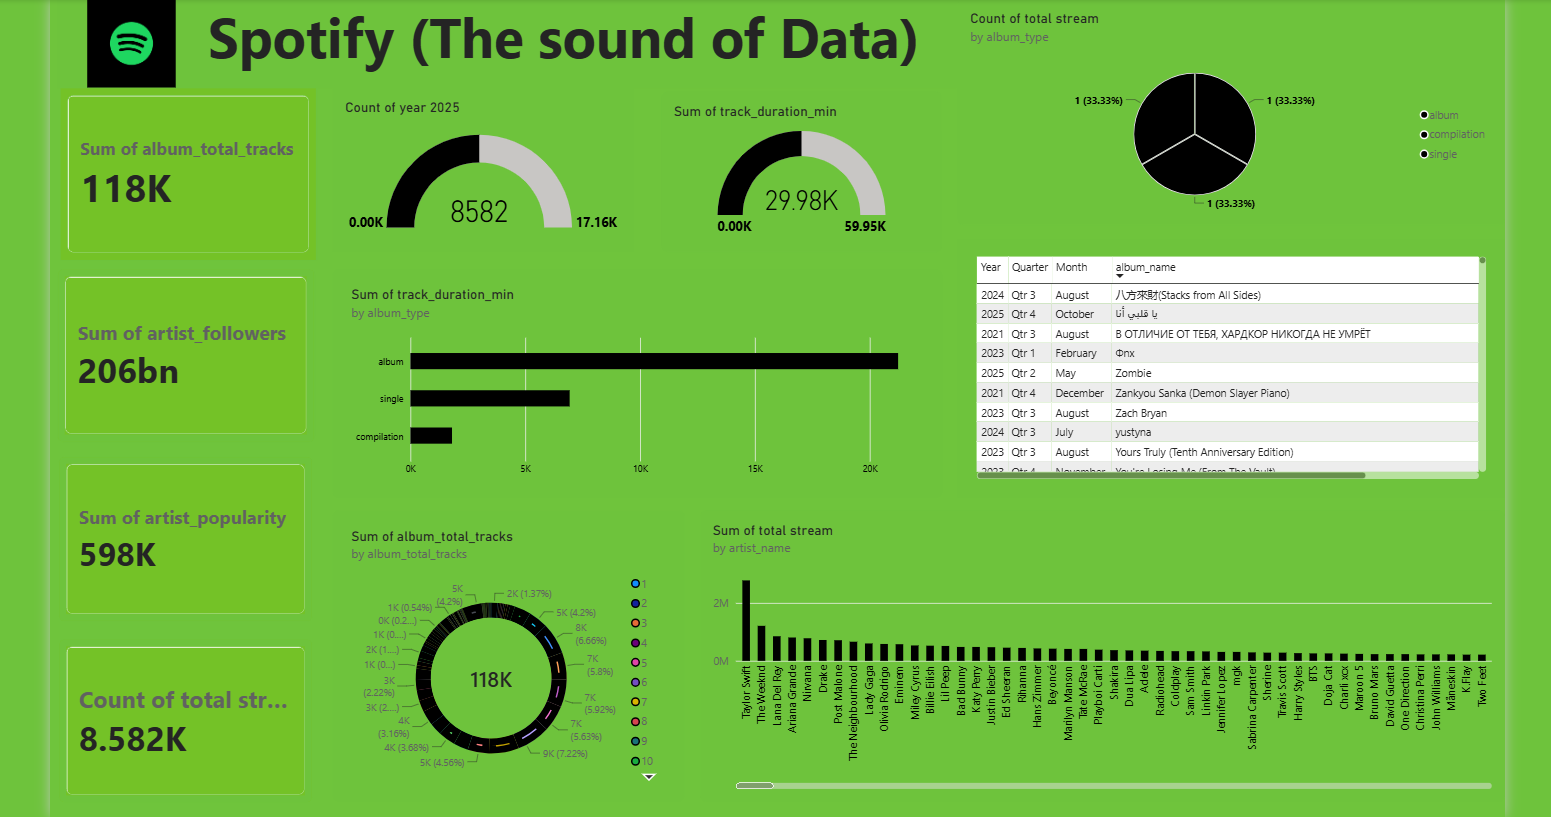

Layout of this report page (visuals, bound fields, positions):
{"tool":"powerbi","page":{"name":"Page 1","canvas":[1920,1080],"ordinal":0},"visuals":[{"type":"textbox","box":[10.3,0,1591.1,117.3],"z":0},{"type":"cardVisual","fields":{"Data":["Sum(spotify_data clean (1).album_total_tracks)"]},"box":[13.7,116.5,339.6,228.5],"z":1000},{"type":"cardVisual","fields":{"Data":["Sum(spotify_data clean (1).artist_followers)"]},"box":[9.1,356.2,339.6,228.5],"z":2000},{"type":"cardVisual","fields":{"Data":["Sum(spotify_data clean (1).artist_popularity)"]},"box":[12.3,603.1,335.5,218.2],"z":3000},{"type":"gauge","fields":{"Y":["Sum(spotify_data clean (1).track_duration_min)"]},"box":[806.9,121.4,370.5,212],"z":4000},{"type":"barChart","fields":{"Category":["spotify_data clean (1).album_type"],"Y":["Sum(spotify_data clean (1).track_duration_min)"]},"box":[372.6,356.1,804.8,302.6],"z":6000},{"type":"donutChart","fields":{"Series":["spotify_data clean (1).album_total_tracks"],"Y":["Sum(spotify_data clean (1).album_total_tracks)"]},"box":[372.6,675.1,465.2,384.9],"z":8000},{"type":"tableEx","fields":{"Values":["spotify_data clean (1).album_release_date.Variation.Date Hierarchy.Year","spotify_data clean (1).album_release_date.Variation.Date Hierarchy.Quarter","spotify_data clean (1).album_release_date.Variation.Date Hierarchy.Month","spotify_data clean (1).album_name","spotify_data clean (1).album_type"]},"box":[1197.9,317,722.5,341.7],"z":8001},{"type":"cardVisual","fields":{"Data":["CountNonNull(spotify_data clean (1).total stream)"]},"box":[12.3,843.9,335.5,216.1],"z":8002},{"type":"gauge","fields":{"Y":["CountNonNull(spotify_data clean (1).year 2025)"]},"box":[372.6,117.3,397.3,216.1],"z":8004},{"type":"pieChart","fields":{"Category":["spotify_data clean (1).album_type"],"Y":["Count(spotify_data clean (1).total stream)"]},"box":[1197.9,0,722.5,298.5],"z":8005},{"type":"columnChart","fields":{"Category":["spotify_data clean (1).artist_name"],"Y":["Sum(spotify_data clean (1).total stream)"]},"box":[858.3,675.1,1062.1,384.9],"z":8006},{"type":"image","box":[10.5,0,195.3,116.9],"z":8007}]}

Visuals, with their boxes on the page's 1920x1080 design canvas (x1, y1, x2, y2). These are canvas units, not pixel positions in the 1551x817 screenshot, which may show the page scaled, cropped or inside an application window:
textbox: left=10, top=0, right=1601, bottom=117
cardVisual - Sum(spotify_data clean (1).album_total_tracks): left=14, top=116, right=353, bottom=345
cardVisual - Sum(spotify_data clean (1).artist_followers): left=9, top=356, right=349, bottom=585
cardVisual - Sum(spotify_data clean (1).artist_popularity): left=12, top=603, right=348, bottom=821
gauge - Sum(spotify_data clean (1).track_duration_min): left=807, top=121, right=1177, bottom=333
barChart - spotify_data clean (1).album_type x Sum(spotify_data clean (1).track_duration_min): left=373, top=356, right=1177, bottom=659
donutChart - spotify_data clean (1).album_total_tracks x Sum(spotify_data clean (1).album_total_tracks): left=373, top=675, right=838, bottom=1060
tableEx - spotify_data clean (1).album_release_date.Variation.Date Hierarchy.Year x spotify_data clean (1).album_release_date.Variation.Date Hierarchy.Quarter: left=1198, top=317, right=1920, bottom=659
cardVisual - CountNonNull(spotify_data clean (1).total stream): left=12, top=844, right=348, bottom=1060
gauge - CountNonNull(spotify_data clean (1).year 2025): left=373, top=117, right=770, bottom=333
pieChart - spotify_data clean (1).album_type x Count(spotify_data clean (1).total stream): left=1198, top=0, right=1920, bottom=298
columnChart - spotify_data clean (1).artist_name x Sum(spotify_data clean (1).total stream): left=858, top=675, right=1920, bottom=1060
image: left=10, top=0, right=206, bottom=117
